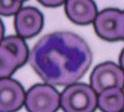N: (30, 30, 92, 84)
